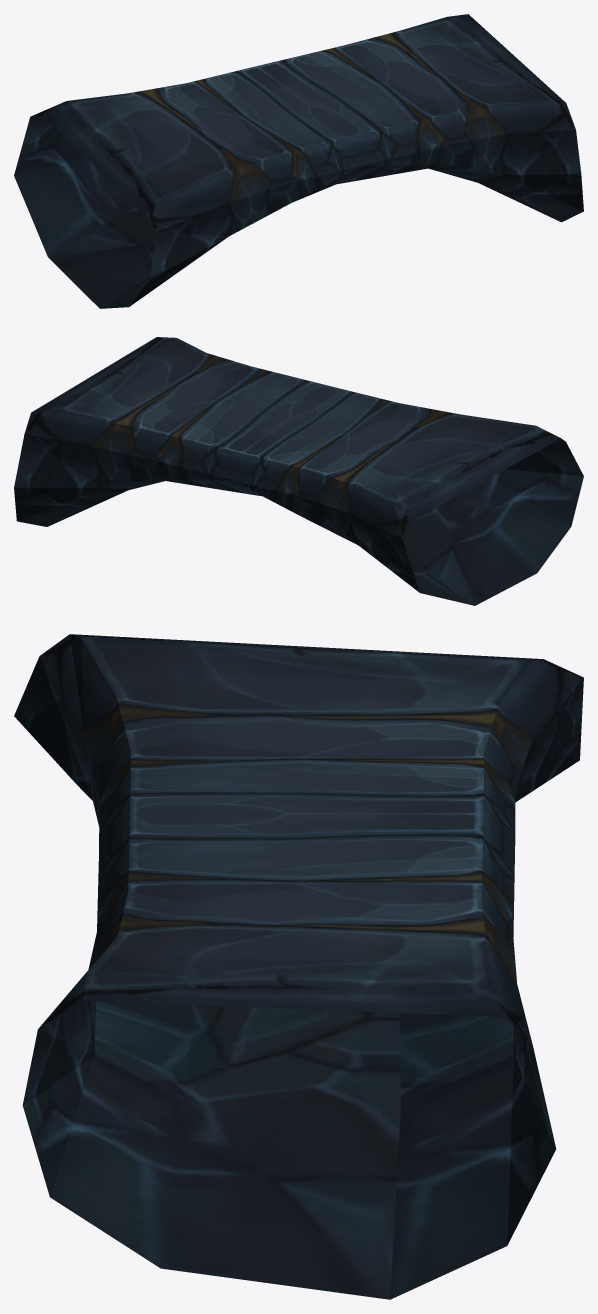
Rendered from H_Maze_shiqiao.FBX.
3 renders of one model, top to bottom at view 1: azimuth 30°, elevation 25°; view 2: azimuth 150°, elevation 25°; view 3: azimuth 270°, elevation 25°, orthographic. The views are drawn at different scales.
Visible parts, largest first — view 1: shiqiao; view 2: shiqiao; view 3: shiqiao.
Part boxes in pixels (x1,y1,x2,y2): shiqiao: (14,14,583,308); shiqiao: (14,337,583,605); shiqiao: (14,634,583,1299).
Size of the model in its own units: 428 by 133 by 246.
